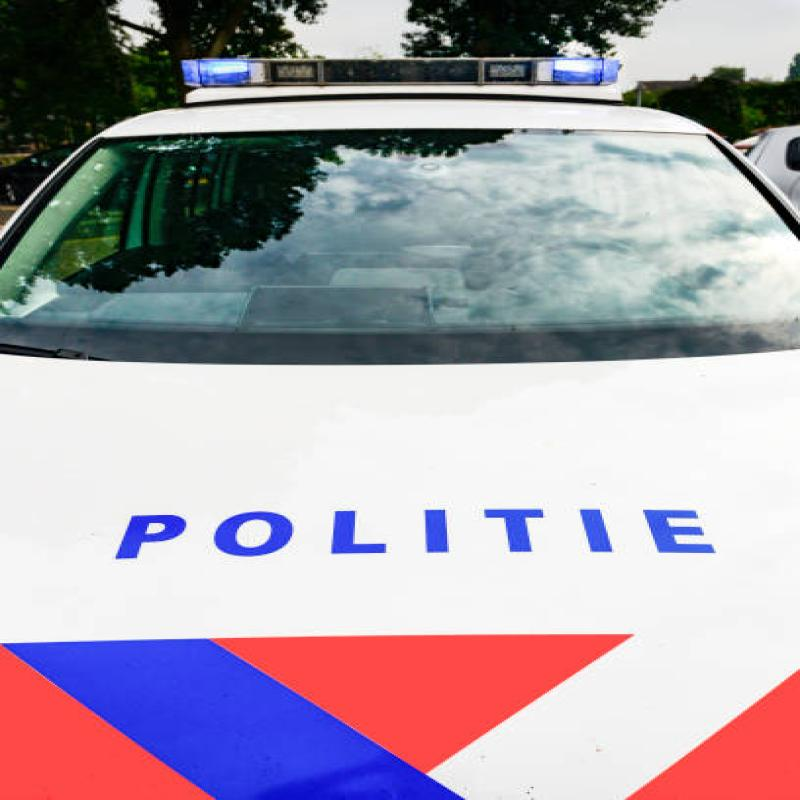AmbulanceSiren: (149, 32, 628, 97)
